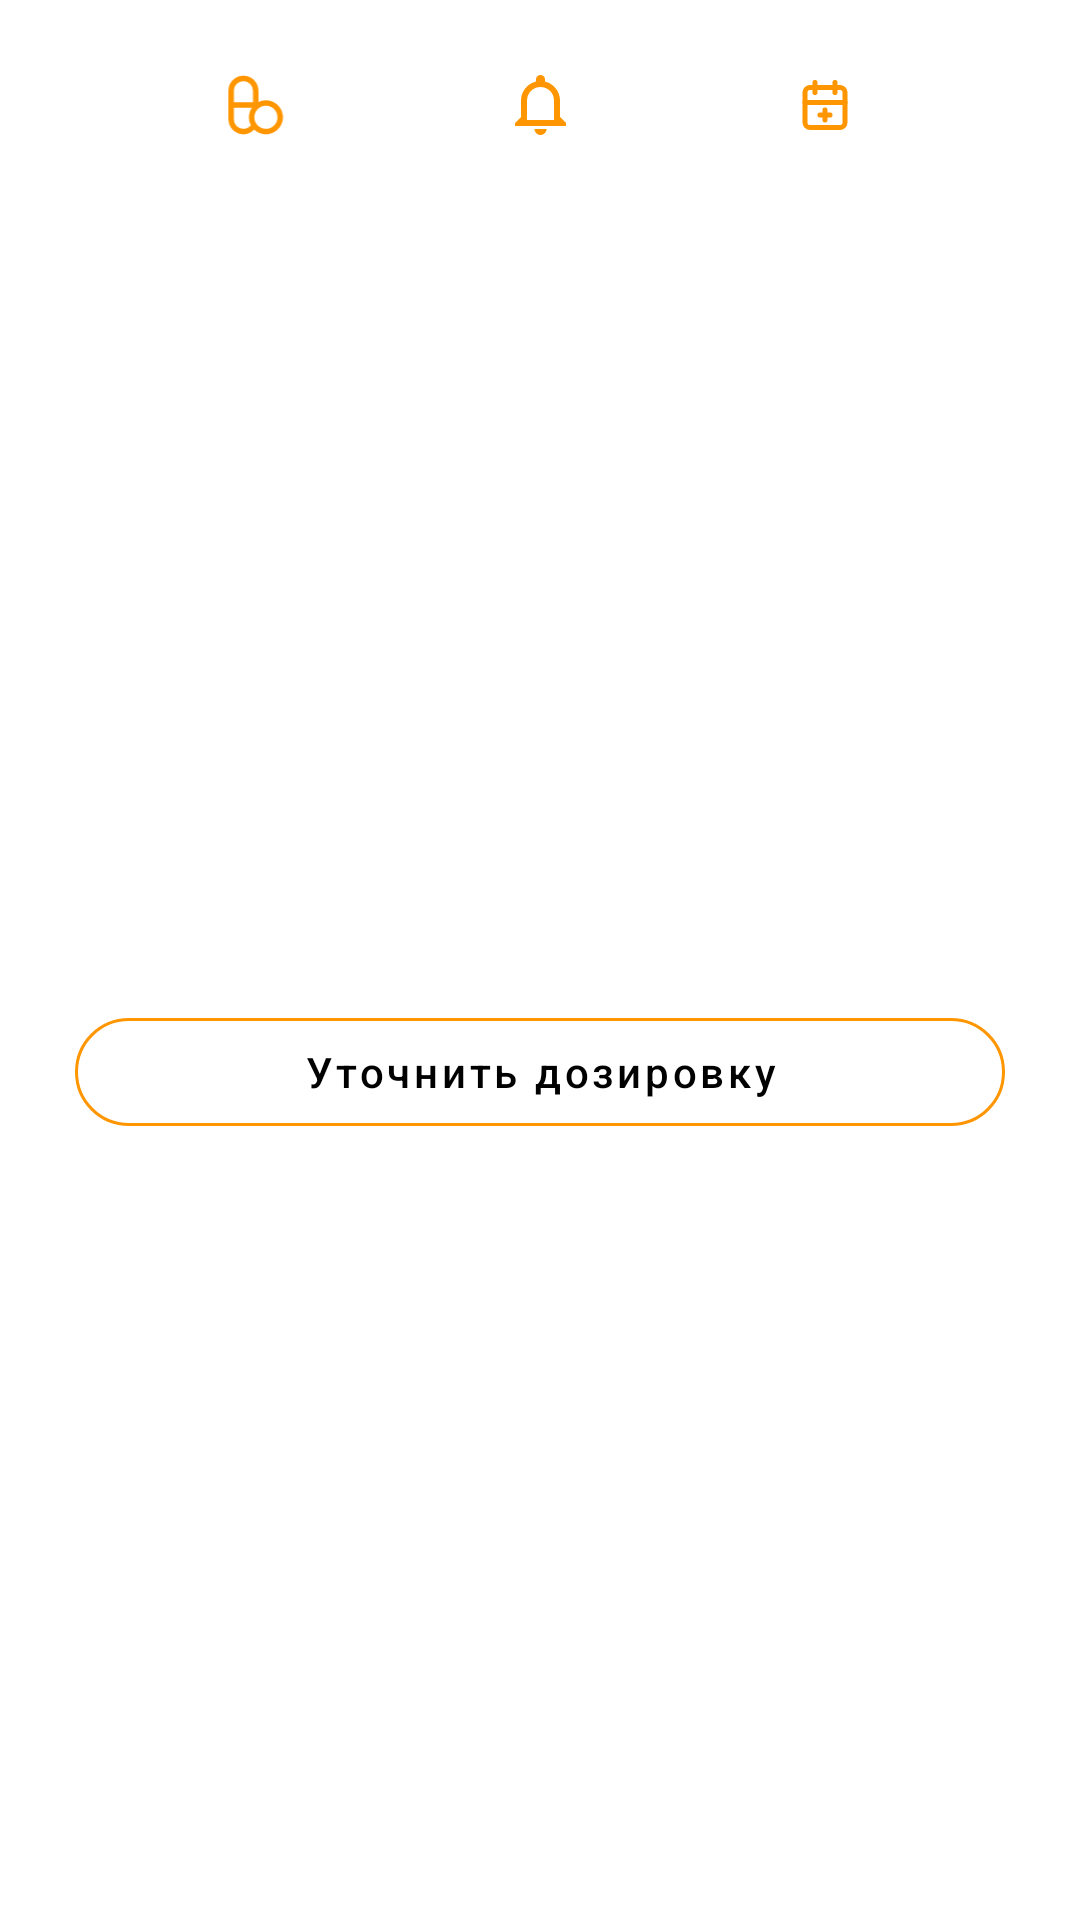

Icon click points for this 1080w x 1920h phone screenshot, format point (x, y):
alert: point (540, 105)
calendar: point (825, 105)
meds: point (256, 105)
